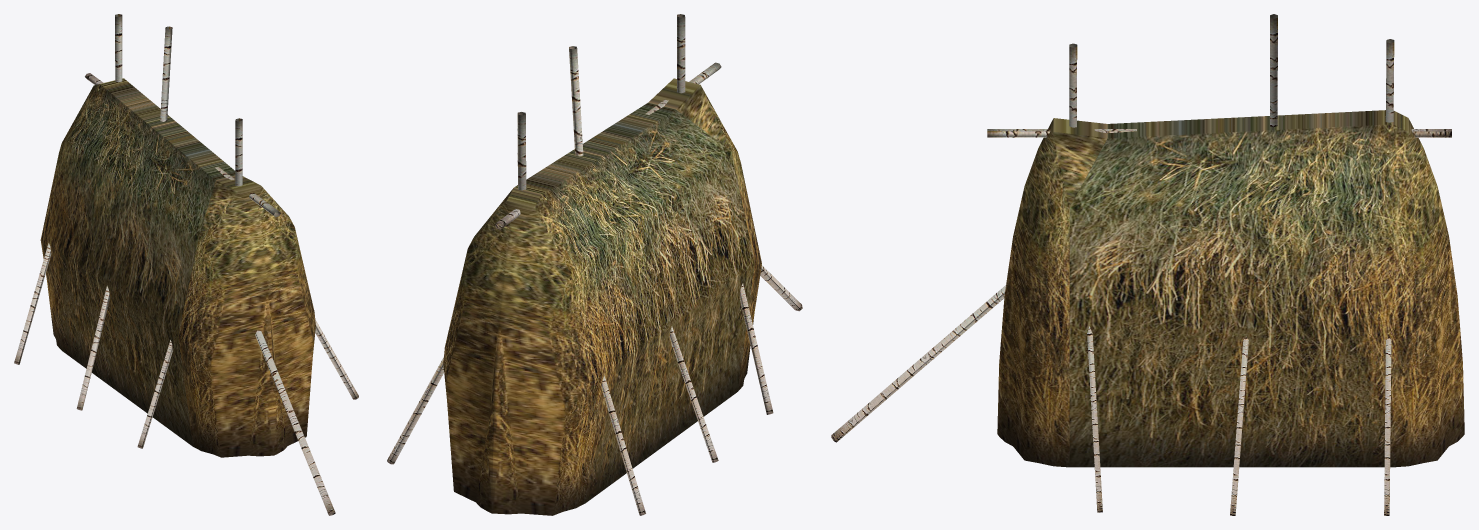
File: sibir_zarod.FBX
3 renders of one model, left to right at view 1: azimuth 30°, elevation 25°; view 2: azimuth 150°, elevation 25°; view 3: azimuth 270°, elevation 25°, orthographic. The views are drawn at different scales.
Visible parts, largest first — view 1: sibir_zarod; view 2: sibir_zarod; view 3: sibir_zarod.
Part boxes in pixels (left/top/right/bottom): sibir_zarod: left=14, top=14, right=358, bottom=515; sibir_zarod: left=387, top=14, right=802, bottom=515; sibir_zarod: left=831, top=14, right=1464, bottom=515.
Bounding box in the file's own units: 2.85 × 5.56 × 4.21.
